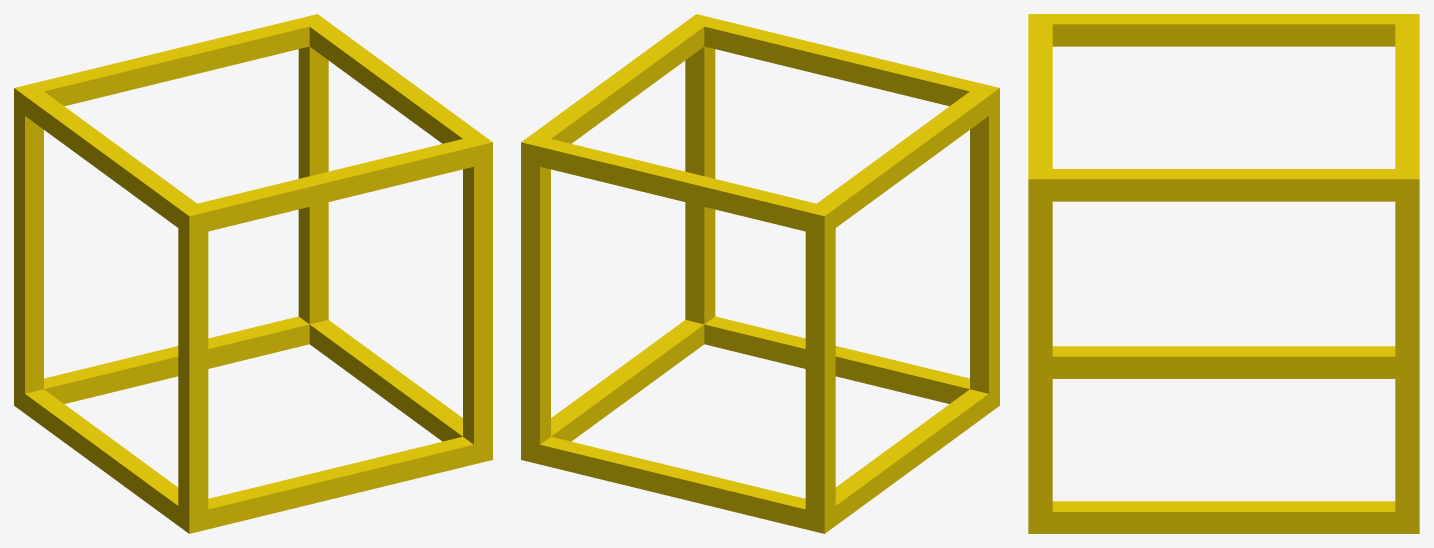
File: rebuilding_hexahedronao.fezao.glb
3 renders of one model, left to right at view 1: azimuth 30°, elevation 25°; view 2: azimuth 150°, elevation 25°; view 3: azimuth 270°, elevation 25°, orthographic. The views are drawn at different scales.
Visible parts, largest first — view 1: REBUILDING_HEXAHEDRONAO; view 2: REBUILDING_HEXAHEDRONAO; view 3: REBUILDING_HEXAHEDRONAO.
Boxes of the visible parts, x1,y1,x2,y2 form: REBUILDING_HEXAHEDRONAO: (14,14,492,533); REBUILDING_HEXAHEDRONAO: (521,14,999,533); REBUILDING_HEXAHEDRONAO: (1028,14,1419,533).
Bounding box in the file's own units: 1 × 1 × 1.
1 material, 1 textured.
